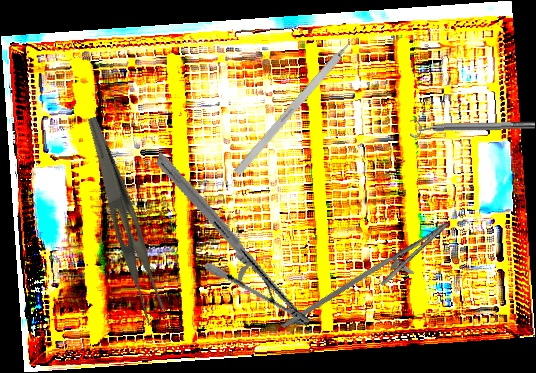Dressing Forceps: (64, 115, 178, 328)
Fixation Ring: (409, 115, 536, 139)
Hook Surgical: (233, 25, 367, 176)
Needle Holder: (120, 151, 346, 330), (280, 203, 459, 359)
